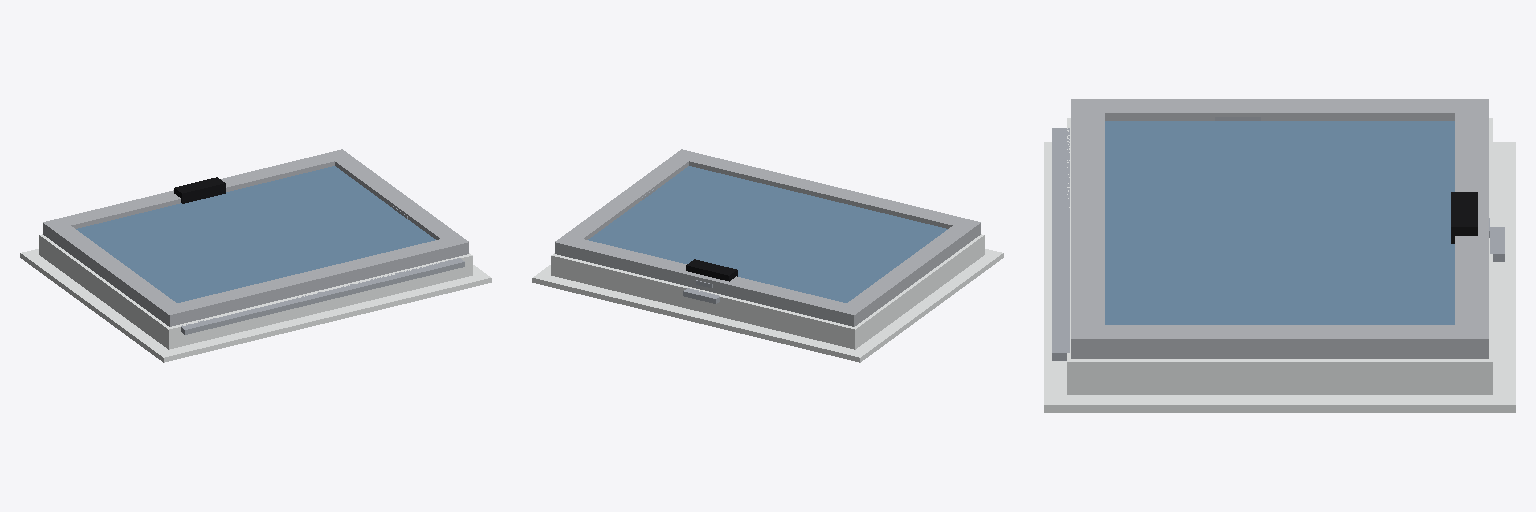
URDF robot description (marine_deck_hatch):
<robot name="marine_deck_hatch">
  <material name="powder_white">
    <color rgba="0.94 0.95 0.95 1" />
    </material>
  <material name="brushed_aluminum">
    <color rgba="0.74 0.75 0.77 1" />
    </material>
  <material name="stainless_steel">
    <color rgba="0.7 0.72 0.75 1" />
    </material>
  <material name="smoked_acrylic">
    <color rgba="0.48 0.6 0.7 0.35" />
    </material>
  <material name="black_rubber">
    <color rgba="0.08 0.08 0.09 1" />
    </material>
  <material name="black_polymer">
    <color rgba="0.12 0.12 0.13 1" />
    </material>
  <link name="frame">
    <inertial>
      <origin xyz="0 0 0.03" rpy="0 0 0" />
      <mass value="6.5" />
      <inertia ixx="0.210167" ixy="0" ixz="0" iyy="0.366167" iyz="0" izz="0.572433" />
      </inertial>
    <visual name="flange_side_-0.380">
      <origin xyz="-0.38 0 0.006" rpy="0 0 0" />
      <geometry>
        <box size="0.06 0.62 0.012" />
        </geometry>
      <material name="powder_white">
        <color rgba="0.94 0.95 0.95 1" />
        </material>
      </visual>
    <visual name="flange_side_+0.380">
      <origin xyz="0.38 0 0.006" rpy="0 0 0" />
      <geometry>
        <box size="0.06 0.62 0.012" />
        </geometry>
      <material name="powder_white">
        <color rgba="0.94 0.95 0.95 1" />
        </material>
      </visual>
    <visual name="flange_end_-0.280">
      <origin xyz="0 -0.28 0.006" rpy="0 0 0" />
      <geometry>
        <box size="0.7 0.06 0.012" />
        </geometry>
      <material name="powder_white">
        <color rgba="0.94 0.95 0.95 1" />
        </material>
      </visual>
    <visual name="flange_end_+0.280">
      <origin xyz="0 0.28 0.006" rpy="0 0 0" />
      <geometry>
        <box size="0.7 0.06 0.012" />
        </geometry>
      <material name="powder_white">
        <color rgba="0.94 0.95 0.95 1" />
        </material>
      </visual>
    <visual name="curb_side_-0.3625">
      <origin xyz="-0.3625 0 0.036" rpy="0 0 0" />
      <geometry>
        <box size="0.035 0.56 0.048" />
        </geometry>
      <material name="powder_white">
        <color rgba="0.94 0.95 0.95 1" />
        </material>
      </visual>
    <visual name="curb_side_+0.3625">
      <origin xyz="0.3625 0 0.036" rpy="0 0 0" />
      <geometry>
        <box size="0.035 0.56 0.048" />
        </geometry>
      <material name="powder_white">
        <color rgba="0.94 0.95 0.95 1" />
        </material>
      </visual>
    <visual name="curb_end_-0.2625">
      <origin xyz="0 -0.2625 0.036" rpy="0 0 0" />
      <geometry>
        <box size="0.69 0.035 0.048" />
        </geometry>
      <material name="powder_white">
        <color rgba="0.94 0.95 0.95 1" />
        </material>
      </visual>
    <visual name="curb_end_+0.2625">
      <origin xyz="0 0.2625 0.036" rpy="0 0 0" />
      <geometry>
        <box size="0.69 0.035 0.048" />
        </geometry>
      <material name="powder_white">
        <color rgba="0.94 0.95 0.95 1" />
        </material>
      </visual>
    <visual name="gasket_side_-0.345">
      <origin xyz="-0.345 0 0.0585" rpy="0 0 0" />
      <geometry>
        <box size="0.02 0.51 0.003" />
        </geometry>
      <material name="black_rubber">
        <color rgba="0.08 0.08 0.09 1" />
        </material>
      </visual>
    <visual name="gasket_side_+0.345">
      <origin xyz="0.345 0 0.0585" rpy="0 0 0" />
      <geometry>
        <box size="0.02 0.51 0.003" />
        </geometry>
      <material name="black_rubber">
        <color rgba="0.08 0.08 0.09 1" />
        </material>
      </visual>
    <visual name="gasket_end_-0.245">
      <origin xyz="0 -0.245 0.0585" rpy="0 0 0" />
      <geometry>
        <box size="0.67 0.02 0.003" />
        </geometry>
      <material name="black_rubber">
        <color rgba="0.08 0.08 0.09 1" />
        </material>
      </visual>
    <visual name="gasket_end_+0.245">
      <origin xyz="0 0.245 0.0585" rpy="0 0 0" />
      <geometry>
        <box size="0.67 0.02 0.003" />
        </geometry>
      <material name="black_rubber">
        <color rgba="0.08 0.08 0.09 1" />
        </material>
      </visual>
    <visual name="hinge_backing_rail">
      <origin xyz="0 -0.288 0.054" rpy="0 0 0" />
      <geometry>
        <box size="0.7 0.024 0.012" />
        </geometry>
      <material name="stainless_steel">
        <color rgba="0.7 0.72 0.75 1" />
        </material>
      </visual>
    <visual name="latch_strike">
      <origin xyz="0 0.286 0.054" rpy="0 0 0" />
      <geometry>
        <box size="0.082 0.02 0.012" />
        </geometry>
      <material name="stainless_steel">
        <color rgba="0.7 0.72 0.75 1" />
        </material>
      </visual>
    <visual name="fastener_-0.330_-0.250">
      <origin xyz="-0.33 -0.25 0.0135" rpy="0 0 0" />
      <geometry>
        <cylinder radius="0.007" length="0.003" />
        </geometry>
      <material name="stainless_steel">
        <color rgba="0.7 0.72 0.75 1" />
        </material>
      </visual>
    <visual name="fastener_-0.330_+0.250">
      <origin xyz="-0.33 0.25 0.0135" rpy="0 0 0" />
      <geometry>
        <cylinder radius="0.007" length="0.003" />
        </geometry>
      <material name="stainless_steel">
        <color rgba="0.7 0.72 0.75 1" />
        </material>
      </visual>
    <visual name="fastener_-0.165_-0.250">
      <origin xyz="-0.165 -0.25 0.0135" rpy="0 0 0" />
      <geometry>
        <cylinder radius="0.007" length="0.003" />
        </geometry>
      <material name="stainless_steel">
        <color rgba="0.7 0.72 0.75 1" />
        </material>
      </visual>
    <visual name="fastener_-0.165_+0.250">
      <origin xyz="-0.165 0.25 0.0135" rpy="0 0 0" />
      <geometry>
        <cylinder radius="0.007" length="0.003" />
        </geometry>
      <material name="stainless_steel">
        <color rgba="0.7 0.72 0.75 1" />
        </material>
      </visual>
    <visual name="fastener_+0.000_-0.250">
      <origin xyz="0 -0.25 0.0135" rpy="0 0 0" />
      <geometry>
        <cylinder radius="0.007" length="0.003" />
        </geometry>
      <material name="stainless_steel">
        <color rgba="0.7 0.72 0.75 1" />
        </material>
      </visual>
    <visual name="fastener_+0.000_+0.250">
      <origin xyz="0 0.25 0.0135" rpy="0 0 0" />
      <geometry>
        <cylinder radius="0.007" length="0.003" />
        </geometry>
      <material name="stainless_steel">
        <color rgba="0.7 0.72 0.75 1" />
        </material>
      </visual>
    <visual name="fastener_+0.165_-0.250">
      <origin xyz="0.165 -0.25 0.0135" rpy="0 0 0" />
      <geometry>
        <cylinder radius="0.007" length="0.003" />
        </geometry>
      <material name="stainless_steel">
        <color rgba="0.7 0.72 0.75 1" />
        </material>
      </visual>
    <visual name="fastener_+0.165_+0.250">
      <origin xyz="0.165 0.25 0.0135" rpy="0 0 0" />
      <geometry>
        <cylinder radius="0.007" length="0.003" />
        </geometry>
      <material name="stainless_steel">
        <color rgba="0.7 0.72 0.75 1" />
        </material>
      </visual>
    <visual name="fastener_+0.330_-0.250">
      <origin xyz="0.33 -0.25 0.0135" rpy="0 0 0" />
      <geometry>
        <cylinder radius="0.007" length="0.003" />
        </geometry>
      <material name="stainless_steel">
        <color rgba="0.7 0.72 0.75 1" />
        </material>
      </visual>
    <visual name="fastener_+0.330_+0.250">
      <origin xyz="0.33 0.25 0.0135" rpy="0 0 0" />
      <geometry>
        <cylinder radius="0.007" length="0.003" />
        </geometry>
      <material name="stainless_steel">
        <color rgba="0.7 0.72 0.75 1" />
        </material>
      </visual>
    <visual name="stay_bracket_-0.336">
      <origin xyz="-0.352 0.145 0.032" rpy="0 0 0" />
      <geometry>
        <box size="0.022 0.07 0.028" />
        </geometry>
      <material name="stainless_steel">
        <color rgba="0.7 0.72 0.75 1" />
        </material>
      </visual>
    <visual name="stay_bracket_+0.336">
      <origin xyz="0.352 0.145 0.032" rpy="0 0 0" />
      <geometry>
        <box size="0.022 0.07 0.028" />
        </geometry>
      <material name="stainless_steel">
        <color rgba="0.7 0.72 0.75 1" />
        </material>
      </visual>
    </link>
  <link name="lid">
    <inertial>
      <origin xyz="0 0.275 0.018" rpy="0 0 0" />
      <mass value="4.2" />
      <inertia ixx="0.106329" ixy="0" ixz="0" iyy="0.197329" iyz="0" izz="0.30275" />
      </inertial>
    <visual name="sash_side_-0.3525">
      <origin xyz="-0.3525 0.275 0.017" rpy="0 0 0" />
      <geometry>
        <box size="0.045 0.46 0.028" />
        </geometry>
      <material name="brushed_aluminum">
        <color rgba="0.74 0.75 0.77 1" />
        </material>
      </visual>
    <visual name="sash_side_+0.3525">
      <origin xyz="0.3525 0.275 0.017" rpy="0 0 0" />
      <geometry>
        <box size="0.045 0.46 0.028" />
        </geometry>
      <material name="brushed_aluminum">
        <color rgba="0.74 0.75 0.77 1" />
        </material>
      </visual>
    <visual name="sash_end_+0.0225">
      <origin xyz="0 0.0225 0.017" rpy="0 0 0" />
      <geometry>
        <box size="0.75 0.045 0.028" />
        </geometry>
      <material name="brushed_aluminum">
        <color rgba="0.74 0.75 0.77 1" />
        </material>
      </visual>
    <visual name="sash_end_+0.5275">
      <origin xyz="0 0.5275 0.017" rpy="0 0 0" />
      <geometry>
        <box size="0.75 0.045 0.028" />
        </geometry>
      <material name="brushed_aluminum">
        <color rgba="0.74 0.75 0.77 1" />
        </material>
      </visual>
    <visual name="glazing_panel">
      <origin xyz="0 0.275 0.016" rpy="0 0 0" />
      <geometry>
        <box size="0.664 0.464 0.008" />
        </geometry>
      <material name="smoked_acrylic">
        <color rgba="0.48 0.6 0.7 0.35" />
        </material>
      </visual>
    <visual name="hinge_knuckle">
      <origin xyz="0 0.01 0.018" rpy="0 1.5708 0" />
      <geometry>
        <cylinder radius="0.007" length="0.68" />
        </geometry>
      <material name="stainless_steel">
        <color rgba="0.7 0.72 0.75 1" />
        </material>
      </visual>
    <visual name="hinge_strap_-0.220">
      <origin xyz="-0.22 0.012 0.0125" rpy="0 0 0" />
      <geometry>
        <box size="0.12 0.018 0.005" />
        </geometry>
      <material name="stainless_steel">
        <color rgba="0.7 0.72 0.75 1" />
        </material>
      </visual>
    <visual name="hinge_strap_+0.220">
      <origin xyz="0.22 0.012 0.0125" rpy="0 0 0" />
      <geometry>
        <box size="0.12 0.018 0.005" />
        </geometry>
      <material name="stainless_steel">
        <color rgba="0.7 0.72 0.75 1" />
        </material>
      </visual>
    <visual name="stay_tab_-0.337">
      <origin xyz="-0.337 0.22 0.018" rpy="0 0 0" />
      <geometry>
        <box size="0.016 0.06 0.016" />
        </geometry>
      <material name="stainless_steel">
        <color rgba="0.7 0.72 0.75 1" />
        </material>
      </visual>
    <visual name="stay_tab_+0.337">
      <origin xyz="0.337 0.22 0.018" rpy="0 0 0" />
      <geometry>
        <box size="0.016 0.06 0.016" />
        </geometry>
      <material name="stainless_steel">
        <color rgba="0.7 0.72 0.75 1" />
        </material>
      </visual>
    <visual name="latch_housing">
      <origin xyz="0 0.518 0.031" rpy="0 0 0" />
      <geometry>
        <box size="0.108 0.036 0.028" />
        </geometry>
      <material name="black_polymer">
        <color rgba="0.12 0.12 0.13 1" />
        </material>
      </visual>
    <visual name="pull_handle">
      <origin xyz="0 0.505 0.045" rpy="0 0 0" />
      <geometry>
        <mesh filename="assets/meshes/pull_handle.obj" />
        </geometry>
      <material name="black_polymer">
        <color rgba="0.12 0.12 0.13 1" />
        </material>
      </visual>
    <visual name="latch_bolt">
      <origin xyz="0 0.545 0.018" rpy="0 0 0" />
      <geometry>
        <box size="0.04 0.014 0.01" />
        </geometry>
      <material name="stainless_steel">
        <color rgba="0.7 0.72 0.75 1" />
        </material>
      </visual>
    </link>
  <joint name="frame_to_lid" type="revolute">
    <origin xyz="0 -0.275 0.06" rpy="0 0 0" />
    <parent link="frame" />
    <child link="lid" />
    <axis xyz="1 0 0" />
    <limit effort="80" velocity="1.2" lower="0" upper="1.35" />
    </joint>
  </robot>

--- Facts derived from the render (not from the file) ---
Views: 3 orthographic renders of the robot side by side, from view 1: azimuth 30°, elevation 25°; view 2: azimuth 150°, elevation 25°; view 3: azimuth 270°, elevation 25°.
Robot: marine_deck_hatch — 2 links, 1 joints (1 revolute); root link frame; default pose: all joints at 0.
Visible links, largest first — view 1: lid, frame; view 2: lid, frame; view 3: lid, frame.
Link boxes in pixels (x1,y1,x2,y2): lid: (43, 149, 468, 326); frame: (20, 234, 491, 362); lid: (555, 149, 980, 326); frame: (532, 234, 1003, 362); lid: (1071, 99, 1489, 358); frame: (1044, 118, 1515, 412).
Size in the robot's own frame: 0.82 by 0.62 by 0.105 metres.
Meshes: 1 distinct files referenced, 0 mesh visuals loaded (none loaded); not drawn: 1 (reference not matched to a file when rendering).
